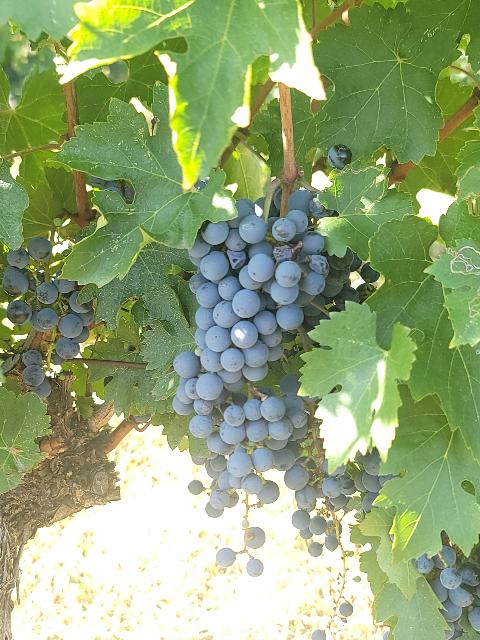grapes: (172, 190, 359, 416), (205, 391, 310, 518), (2, 236, 94, 365), (2, 335, 51, 399), (246, 559, 262, 576)
